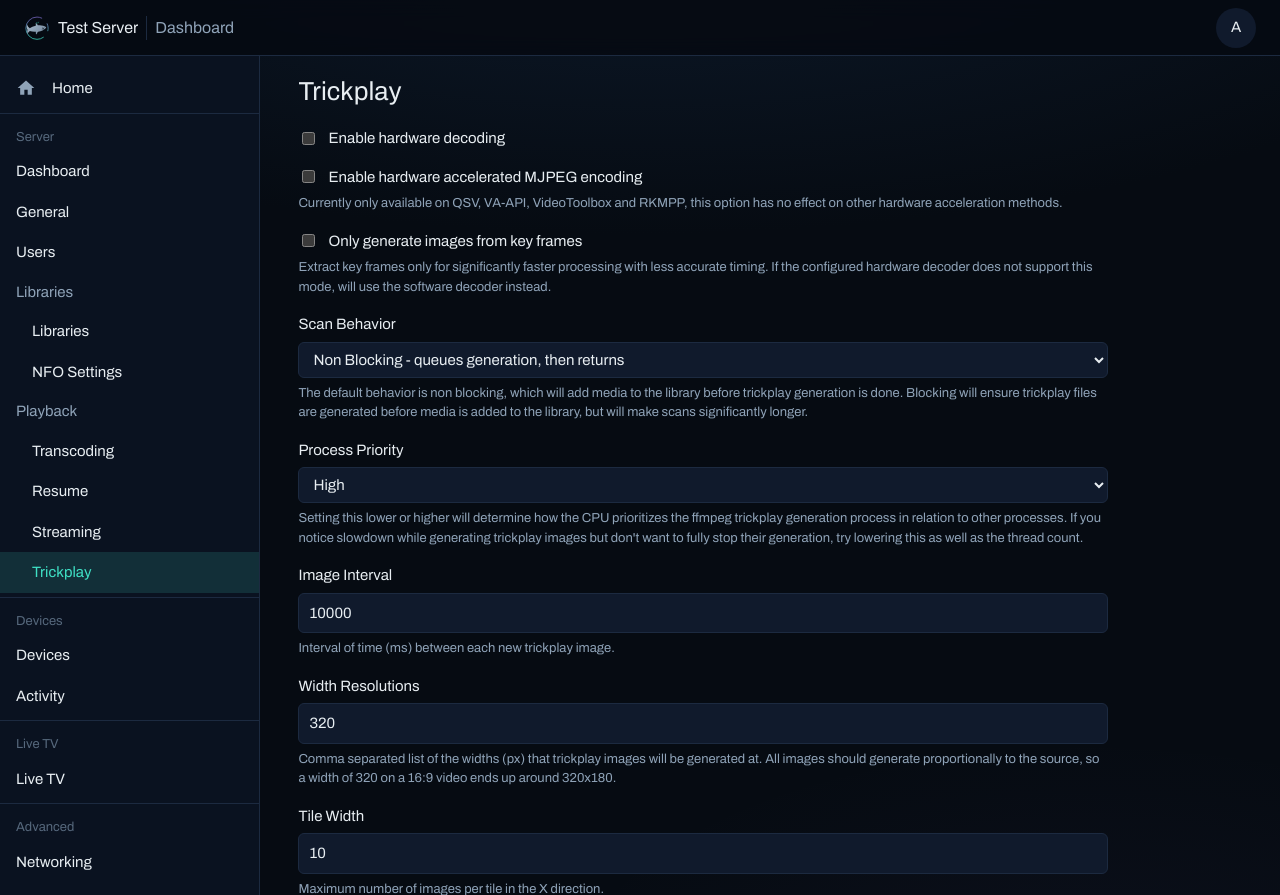
Test: resume, streaming, trickplay › trickplay saves the widths list and keeps other options
Replace the text in the field labelled "Width Resolutions" with "320, 640". click: (703,723)
box: x1=298 y1=703 x2=1108 y2=744
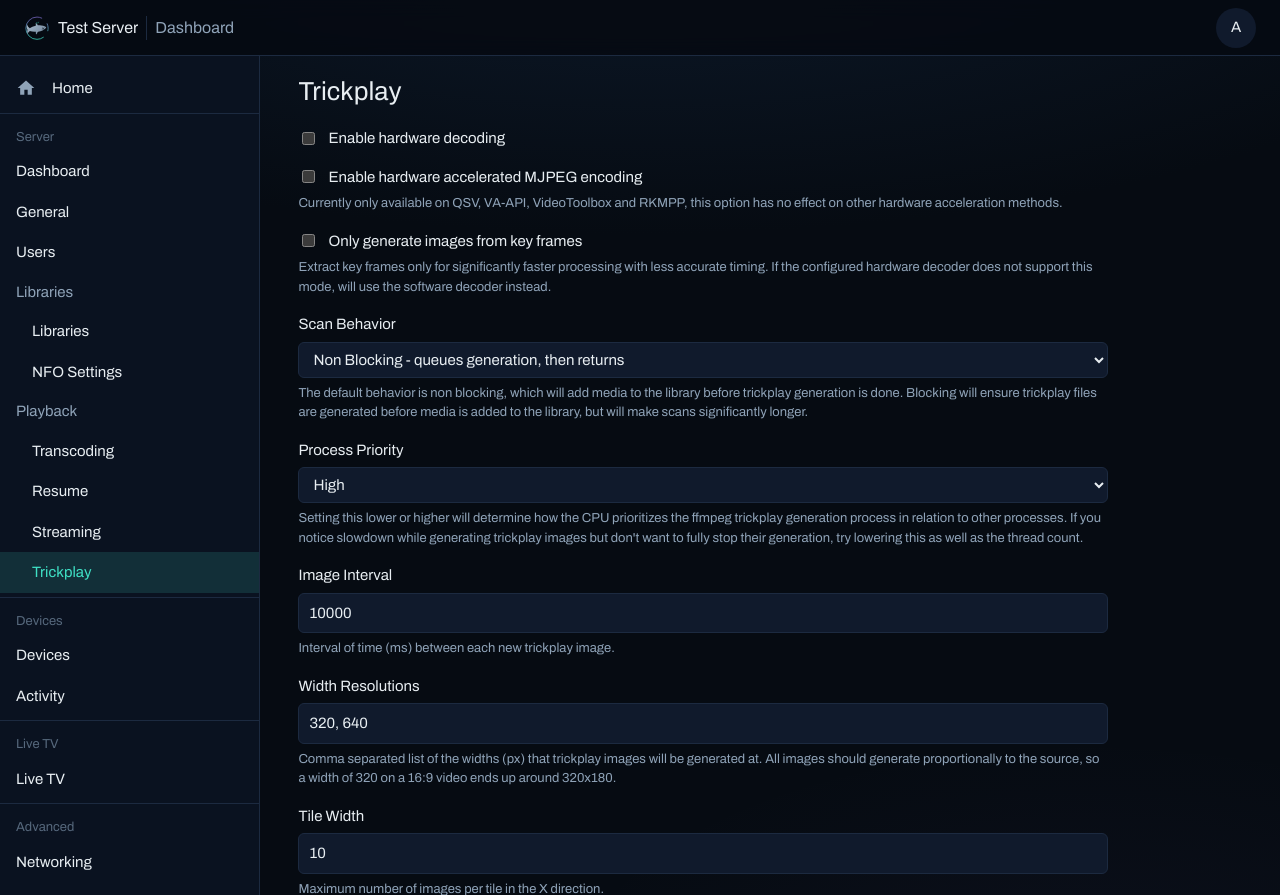
Click the checkbox labelled "Only generate images from key frames". click: (309,241)
box: x1=302 y1=234 x2=315 y2=247
(page scrolled)
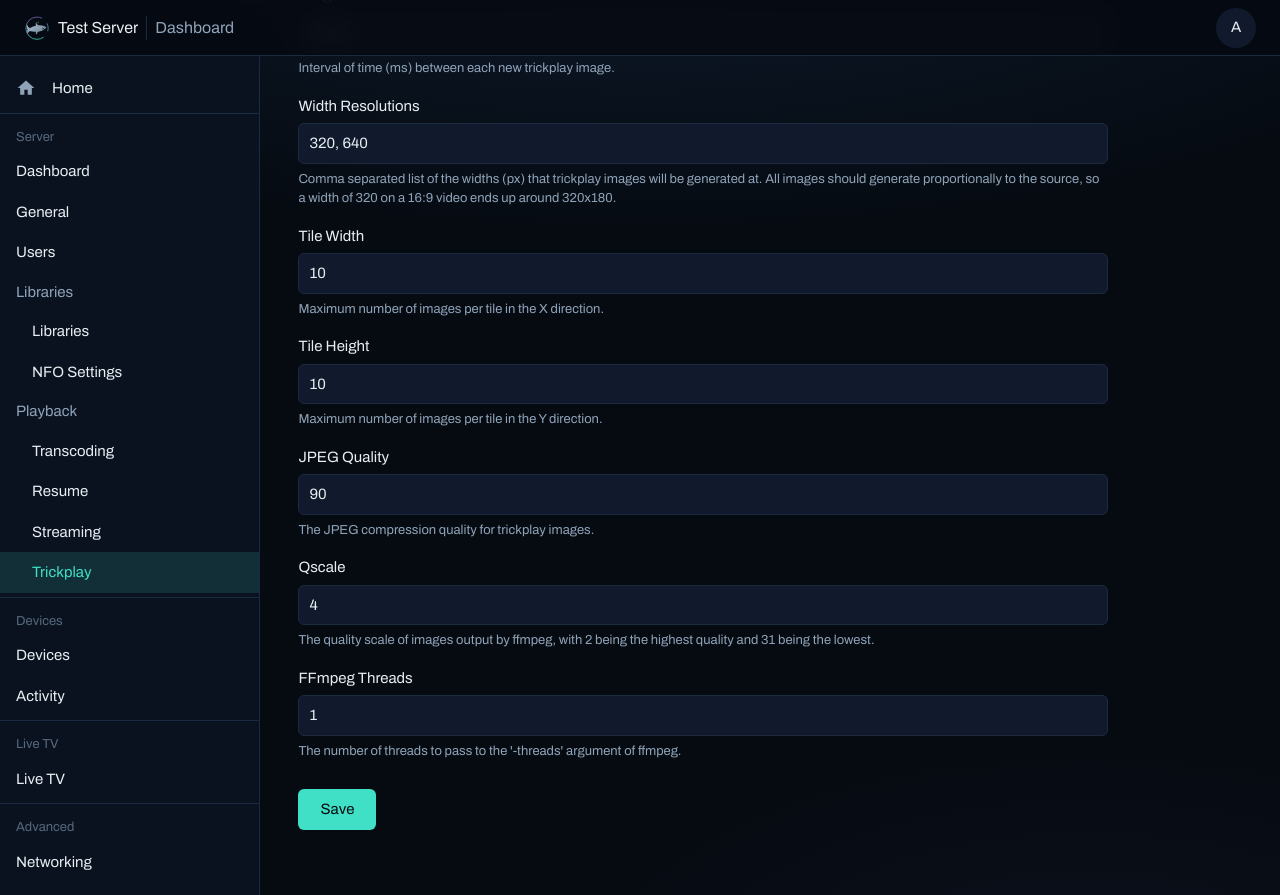
Click the button "Save". click: (337,809)
box: x1=298 y1=789 x2=376 y2=830
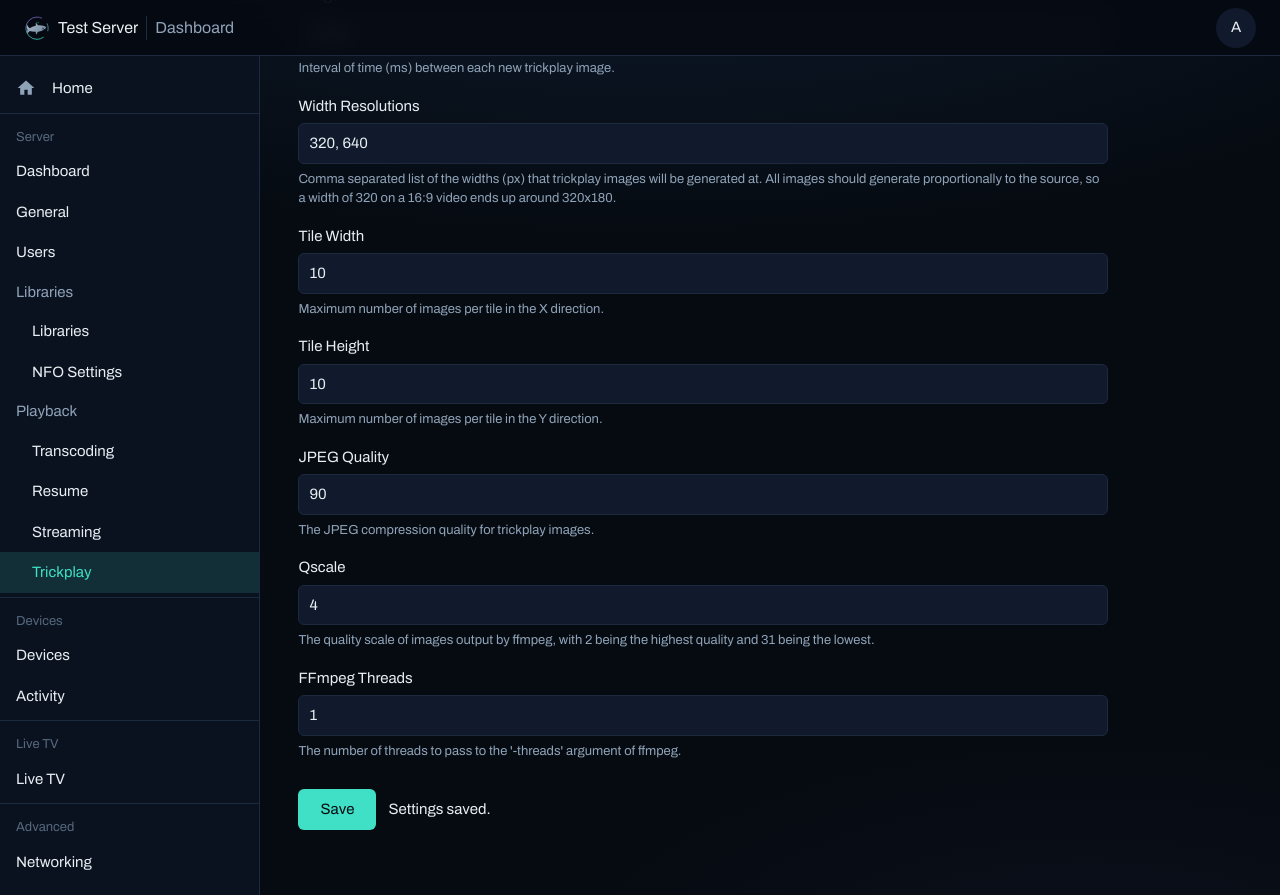
Now the text "Settings saved." is shown, box x1=388 y1=798 x2=491 y2=820
